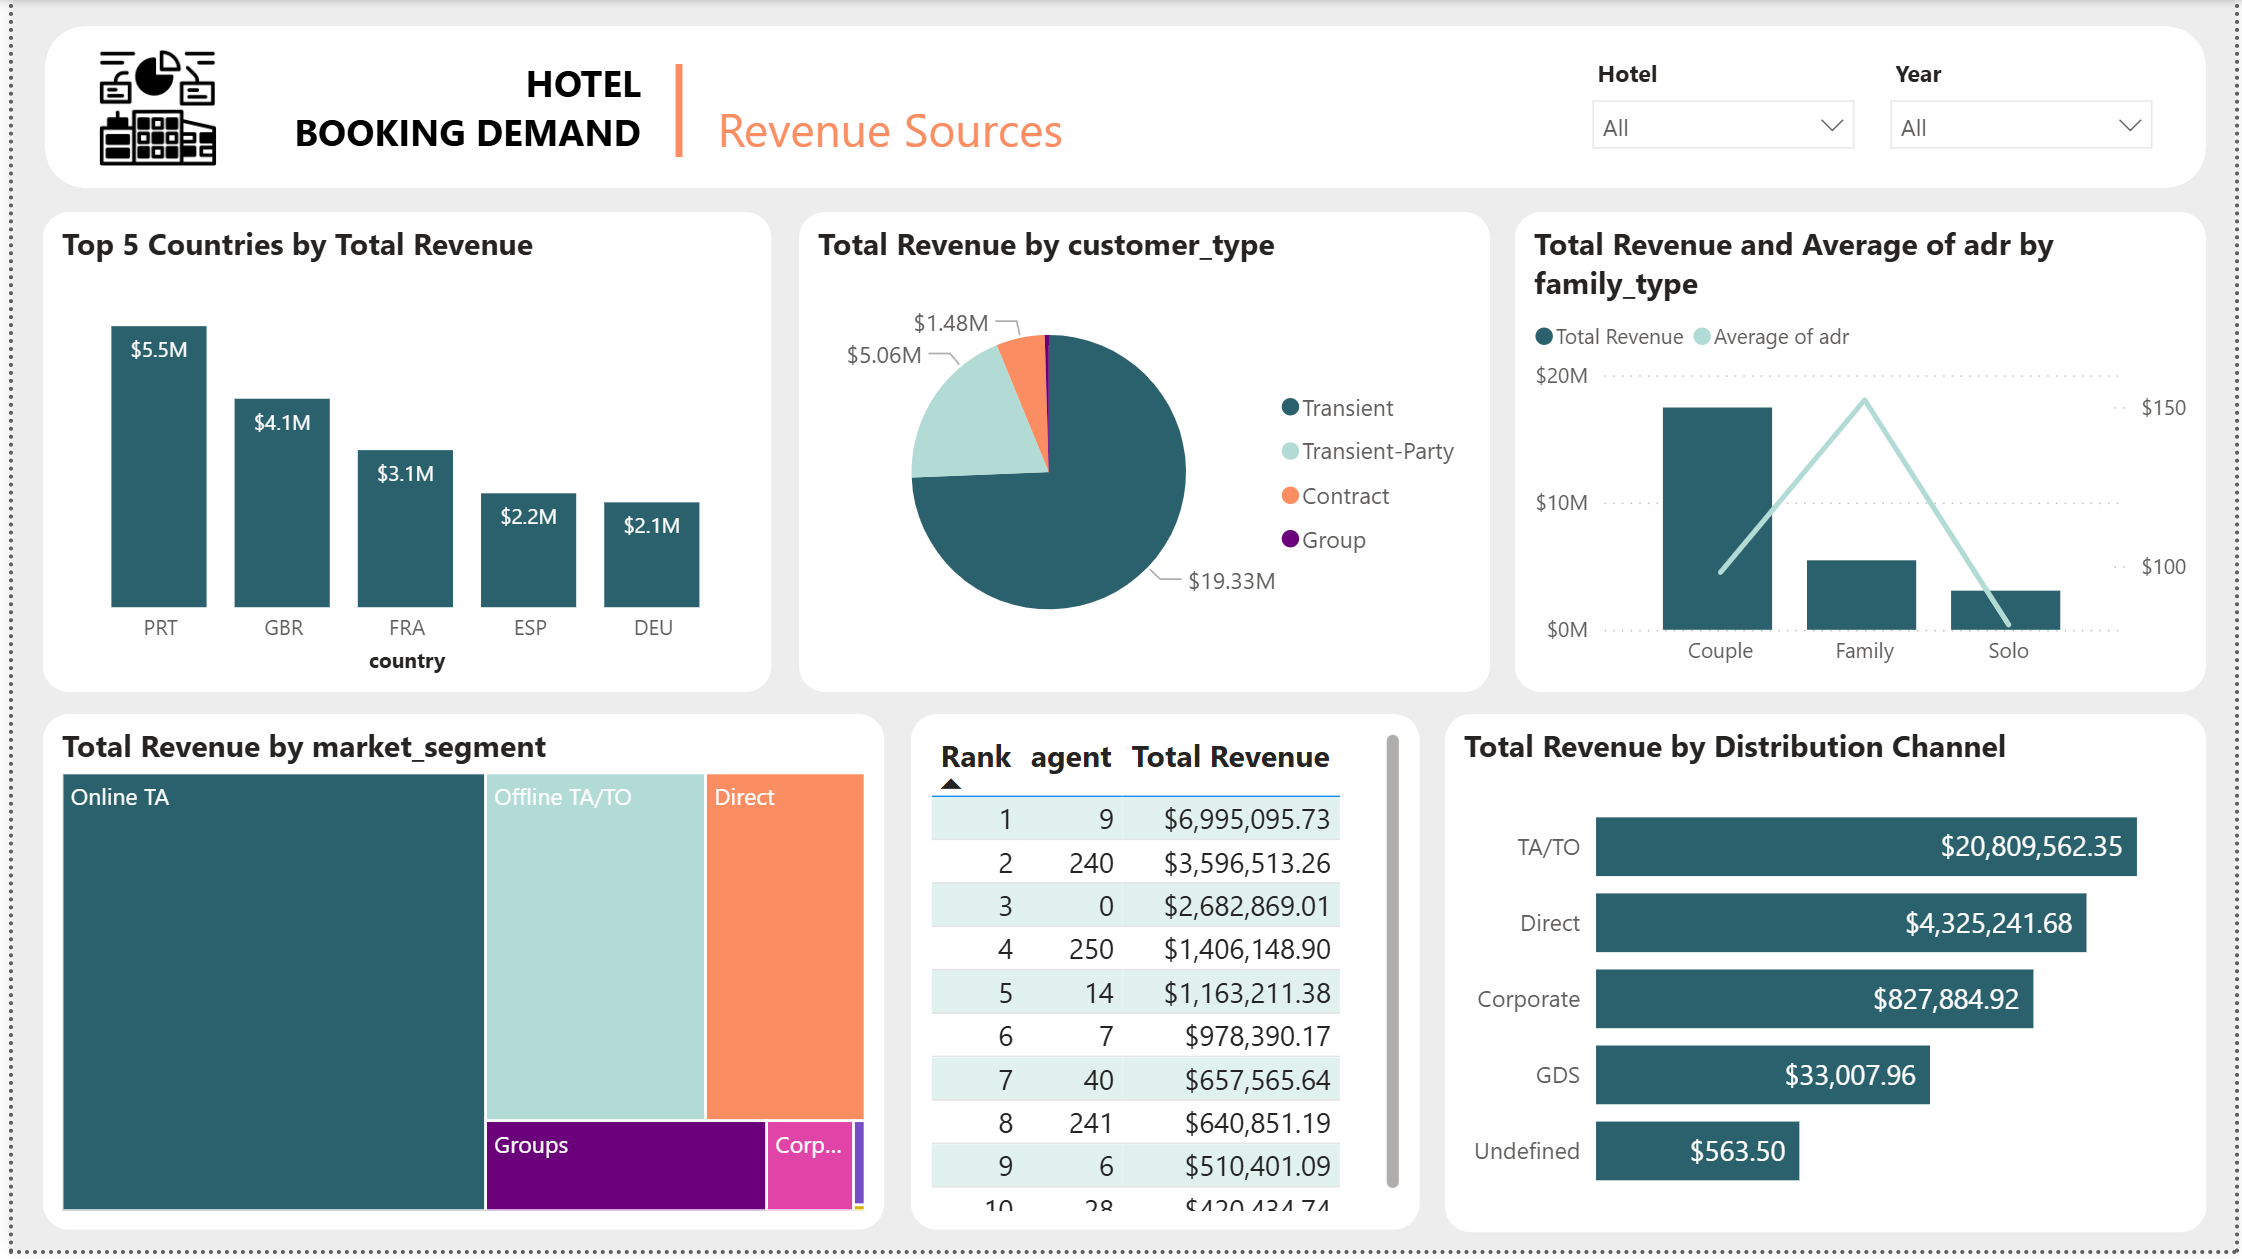

What the dashboard file says about the page in this screenshot:
{"tool":"powerbi","page":{"name":"Revenue Sources","canvas":[1280,720],"ordinal":3},"visuals":[{"type":"shape","box":[18.4,15.3,1244.8,93.4],"z":0},{"type":"textbox","box":[401.1,50.5,454.7,47.5],"z":1000},{"type":"textbox","box":[372.1,15.3,29.1,82.7],"z":2000},{"type":"textbox","box":[147,27.6,225.1,72],"z":3000},{"type":"image","box":[41.3,27.6,84.2,68.9],"z":4000},{"type":"treemap","fields":{"Values":["FactBookings.Total Revenue"],"Group":["DimMarket.market_segment"]},"box":[17.8,411.8,484.5,297.1],"z":5000},{"type":"tableEx","fields":{"Values":["FactBookings.Rank","FactBookings.agent","FactBookings.Total Revenue"]},"box":[517,411.8,293.2,297.1],"z":6000},{"type":"columnChart","title":"Top 5 Countries by Total Revenue","fields":{"Category":["DimCountry.country"],"Y":["FactBookings.Total Revenue"]},"box":[17.8,122.4,419.4,276.7],"z":7000},{"type":"lineStackedColumnComboChart","fields":{"Y":["FactBookings.Total Revenue"],"Category":["FactBookings.family_type"],"Y2":["Avg(FactBookings.adr)"]},"box":[865.7,122.4,397.8,276.7],"z":9000},{"type":"pieChart","fields":{"Y":["FactBookings.Total Revenue"],"Category":["DimBookingInfo.customer_type"]},"box":[452.6,122.4,397.8,276.7],"z":10000},{"type":"slicer","fields":{"Values":["DimHotel.hotel"]},"box":[899.4,27.4,170.8,68.8],"z":11000},{"type":"slicer","fields":{"Values":["DimDate.arrival_date.Variation.Date Hierarchy.Year"]},"box":[1071.6,27.4,170.8,68.8],"z":12000},{"type":"barChart","title":"Total Revenue by Distribution Channel","fields":{"Category":["DimMarket.distribution_channel"],"Y":["FactBookings.Total Revenue"]},"box":[824.9,411.8,438.6,298.3],"z":13000}]}

Visuals, with their boxes in screenshot pixels (x1, y1, x2, y2), scaled from the page's 1280x720 canvas onto the 2242x1259 screenshot:
shape: box=[32, 27, 2213, 190]
textbox: box=[703, 88, 1499, 171]
textbox: box=[652, 27, 703, 171]
textbox: box=[257, 48, 652, 174]
image: box=[72, 48, 220, 169]
treemap - FactBookings.Total Revenue x DimMarket.market_segment: box=[31, 720, 880, 1240]
tableEx - FactBookings.Rank x FactBookings.agent: box=[906, 720, 1419, 1240]
"Top 5 Countries by Total Revenue" columnChart: box=[31, 214, 766, 698]
lineStackedColumnComboChart - FactBookings.Total Revenue x FactBookings.family_type: box=[1516, 214, 2213, 698]
pieChart - FactBookings.Total Revenue x DimBookingInfo.customer_type: box=[793, 214, 1490, 698]
slicer - DimHotel.hotel: box=[1575, 48, 1875, 168]
slicer - DimDate.arrival_date.Variation.Date Hierarchy.Year: box=[1877, 48, 2176, 168]
"Total Revenue by Distribution Channel" barChart: box=[1445, 720, 2213, 1242]
